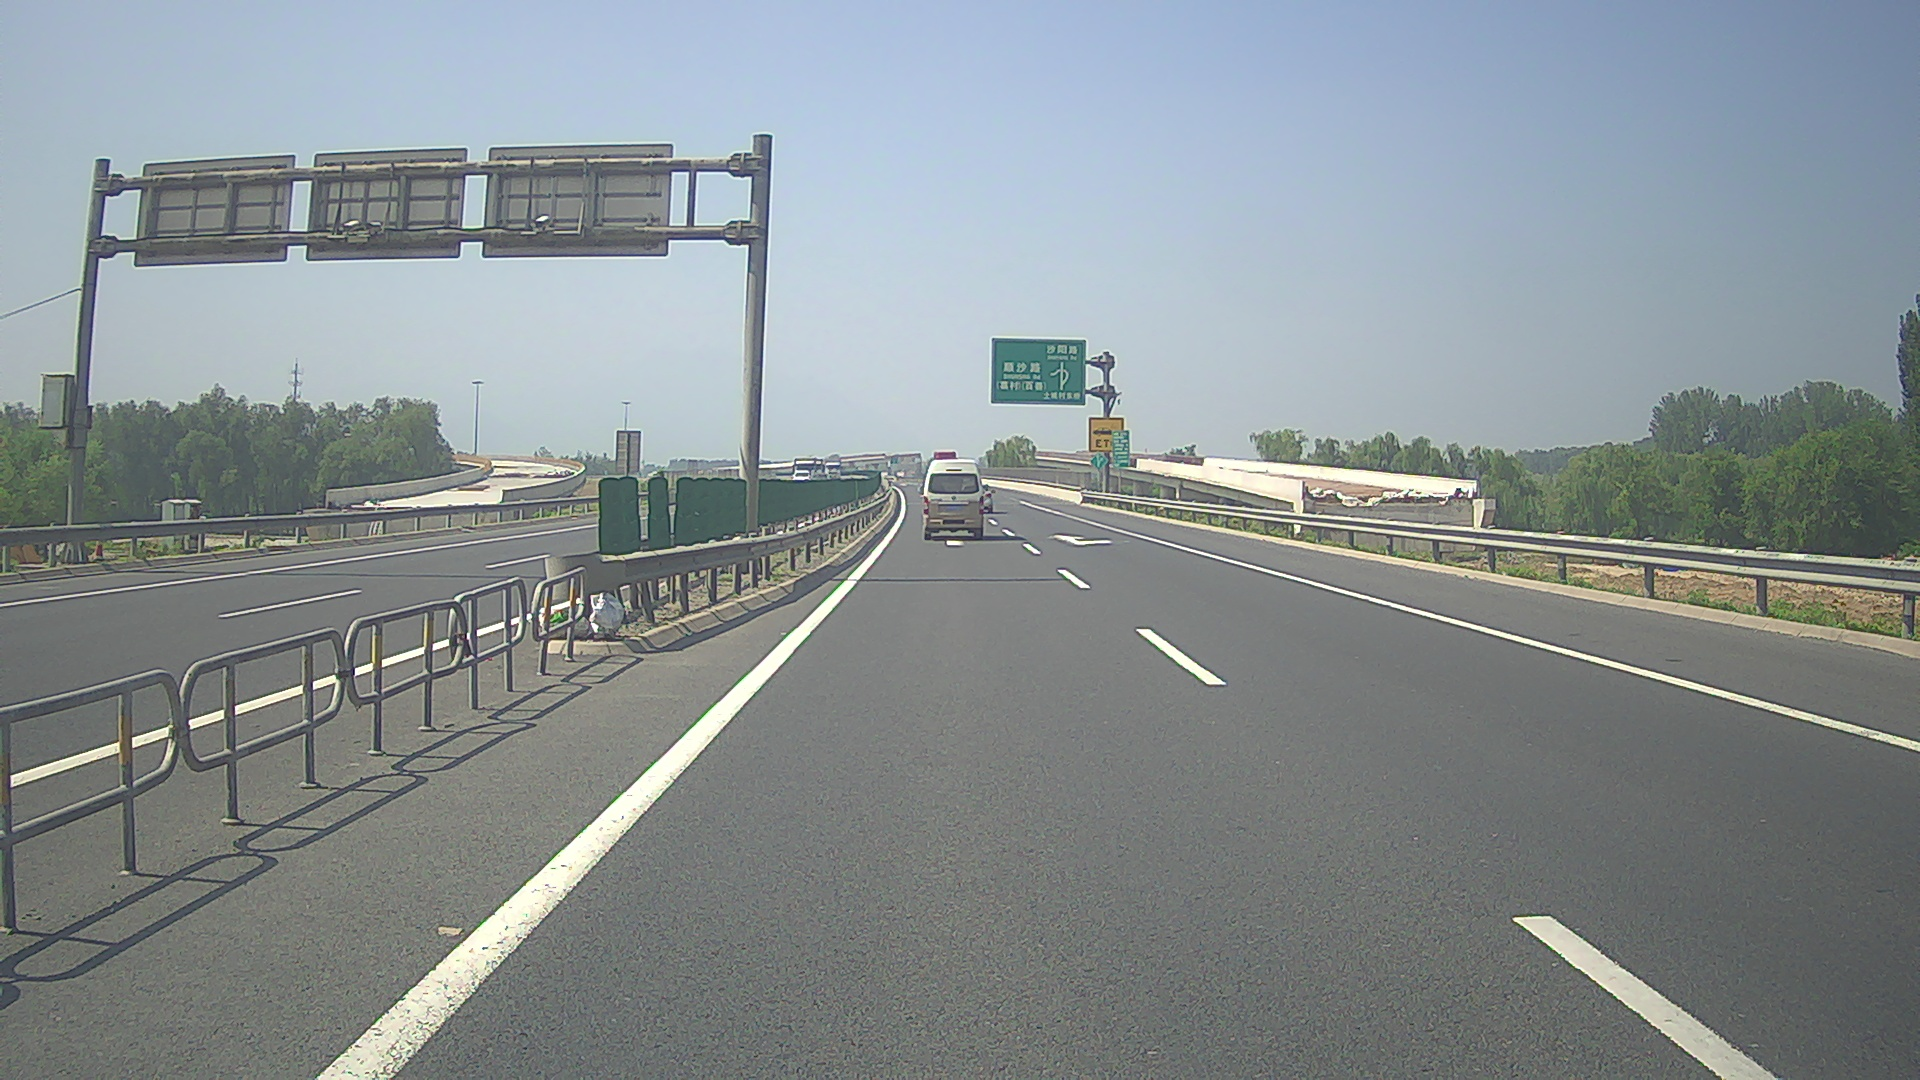car: (791, 471, 810, 487)
ignore: (968, 484, 996, 512), (806, 459, 823, 477)
truck: (793, 458, 816, 487), (824, 462, 841, 481)
van: (918, 460, 982, 541)
